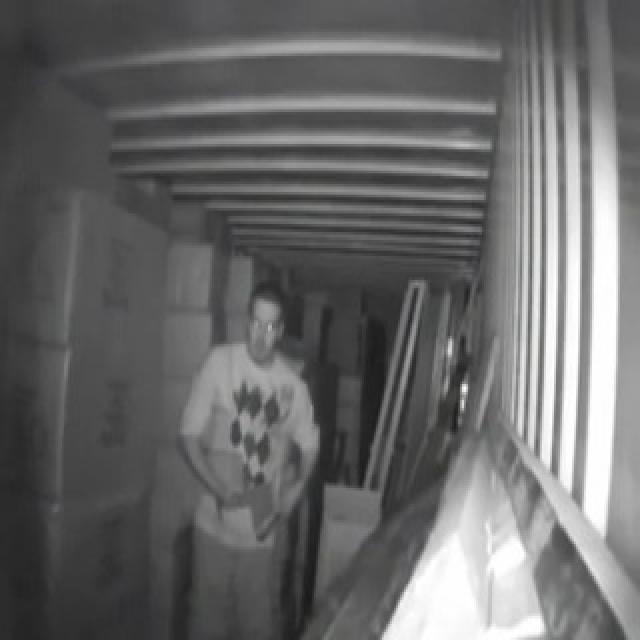thief: (197, 285, 293, 626)
